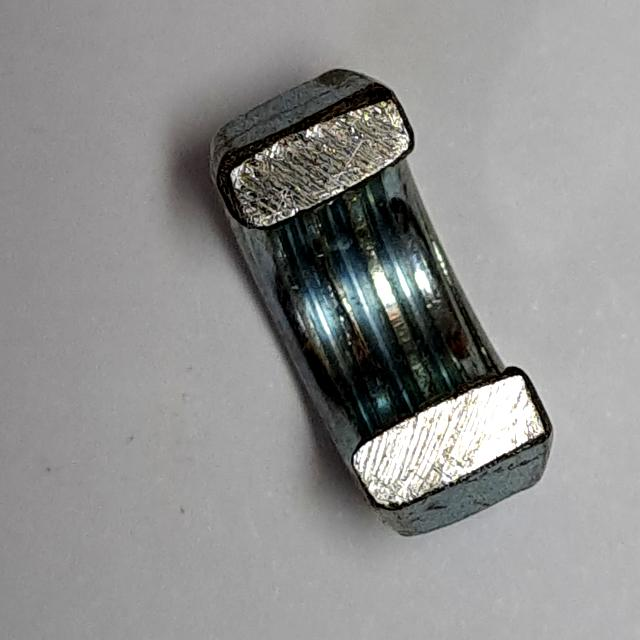Side-Fracture: (192, 55, 570, 554)
